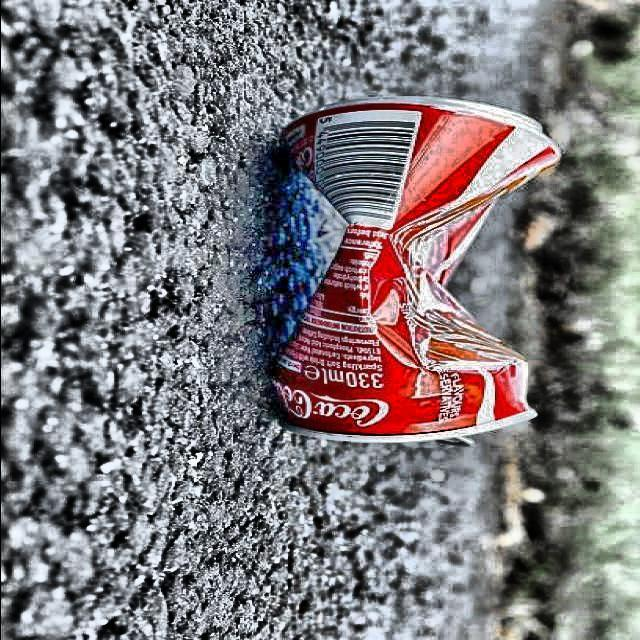metal: (270, 98, 561, 441)
